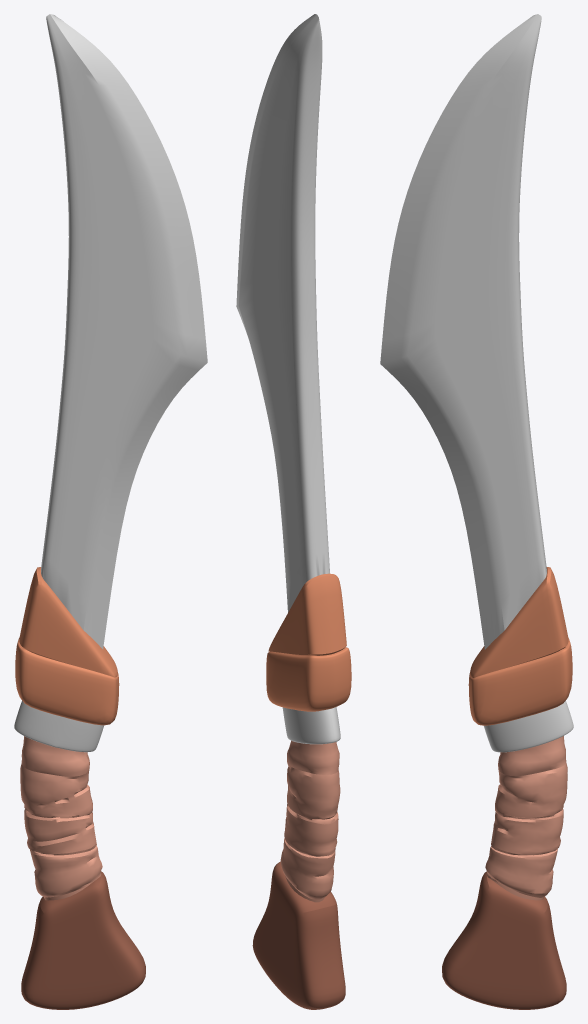
The model's file is Dagger.fbx.
3 renders of one model, left to right at view 1: azimuth 90°, elevation 25°; view 2: azimuth 210°, elevation 25°; view 3: azimuth 270°, elevation 25°, orthographic.
Visible parts, largest first — view 1: Dagger; view 2: Dagger; view 3: Dagger.
Boxes of the visible parts, x1,y1,x2,y2 form: Dagger: (14,14,207,1009); Dagger: (236,14,351,1009); Dagger: (380,14,573,1009).
Bounding box in the file's own units: 4.86 × 103 × 18.31.
